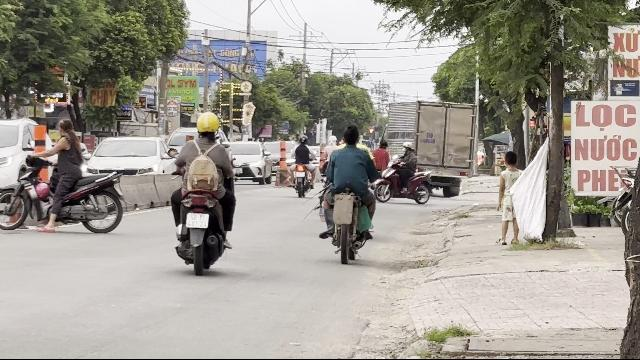helmet: (196, 112, 220, 138)
licenseplate: (186, 212, 208, 228)
motorcyclist: (1, 118, 128, 239), (168, 110, 238, 272), (315, 122, 379, 262)
nohelmet: (54, 118, 78, 140), (341, 124, 359, 146)
